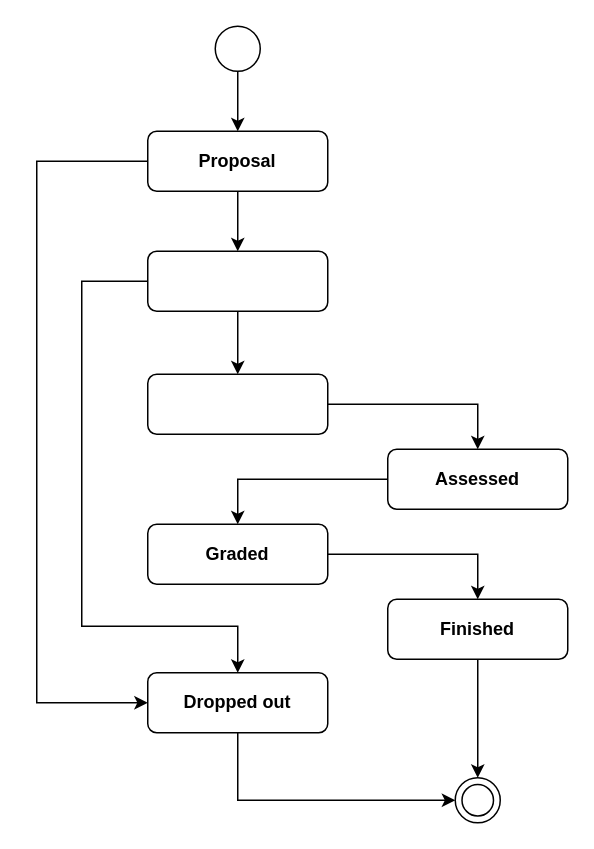
The diagram is 594 pixels wide and 849 high, and some of its shapes have lost their labels. The shapes that lost their labels are listed below. From the top down, each one's centre as x and y in pixels, then its label:
At (237,280): "Writing".
At (237,403): "Submitted".
